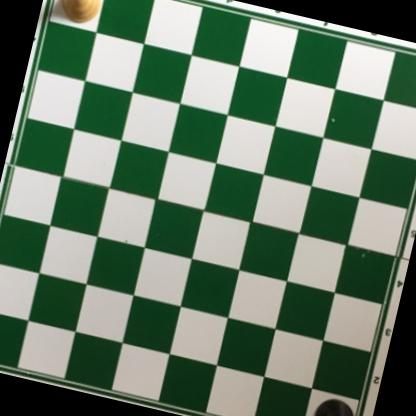black-king: (305, 394, 371, 416)
white-king: (47, 0, 110, 29)
